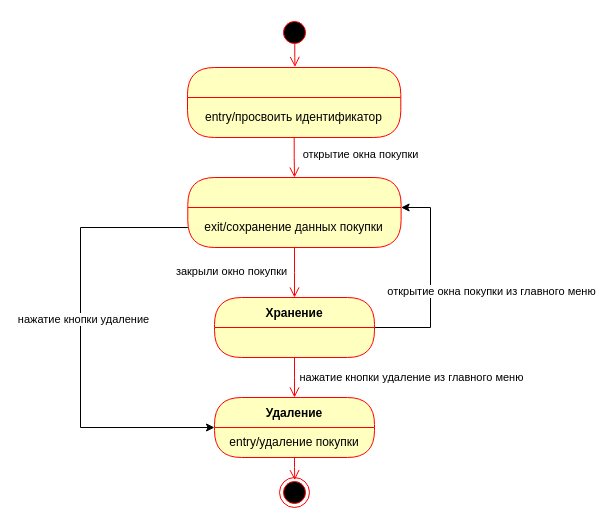
This 612x525 diagram has some shape labels left out. Here are the shapes that lost their labels. From the top down, the box of each, then its label:
(186, 66, 401, 138): Создана
(187, 176, 401, 248): Редактирование
